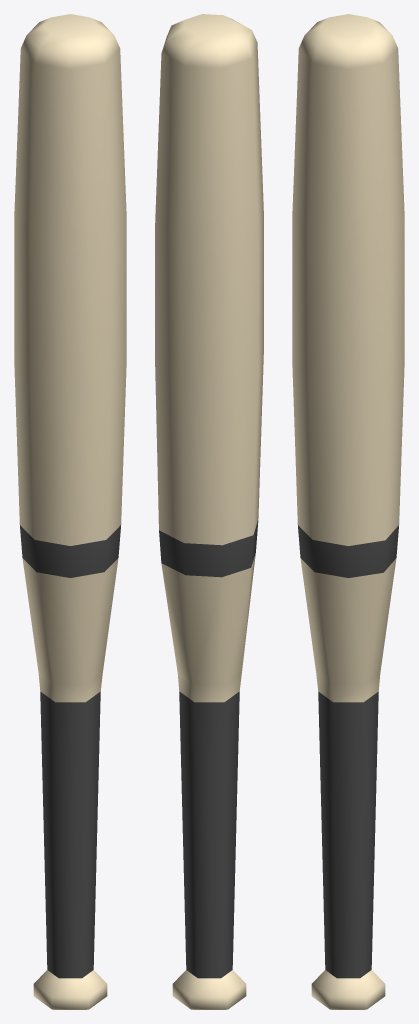
Rendered from SM_baseball_bat_002.obj.
3 renders of one model, left to right at view 1: azimuth 90°, elevation 25°; view 2: azimuth 150°, elevation 25°; view 3: azimuth 270°, elevation 25°, orthographic.
Parts seen in each view (by area): view 1: SM_baseball_bat_002_M_Material; view 2: SM_baseball_bat_002_M_Material; view 3: SM_baseball_bat_002_M_Material.
Boxes of the visible parts, x1=… form: SM_baseball_bat_002_M_Material: x1=14, y1=14, x2=126, y2=1009; SM_baseball_bat_002_M_Material: x1=155, y1=14, x2=263, y2=1009; SM_baseball_bat_002_M_Material: x1=292, y1=14, x2=404, y2=1009.
Bounding box in the file's own units: 0.0969 × 0.9264 × 0.0969.
Materials: 1 (1 with a texture image).
